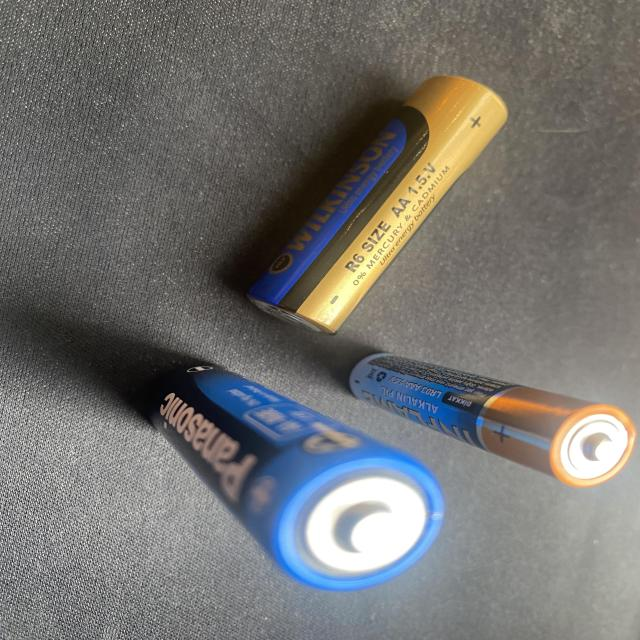AA: (245, 73, 509, 335)
